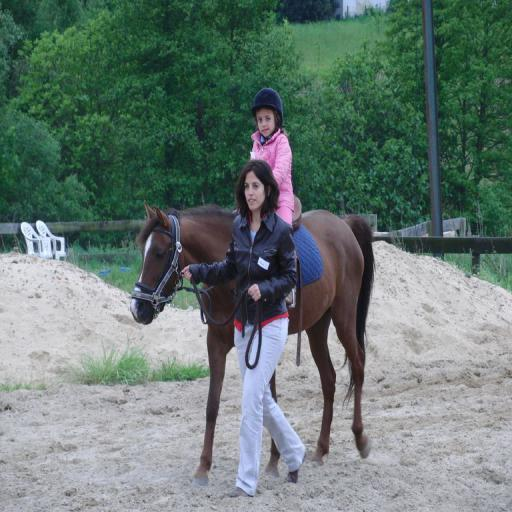horse: (129, 198, 377, 493)
